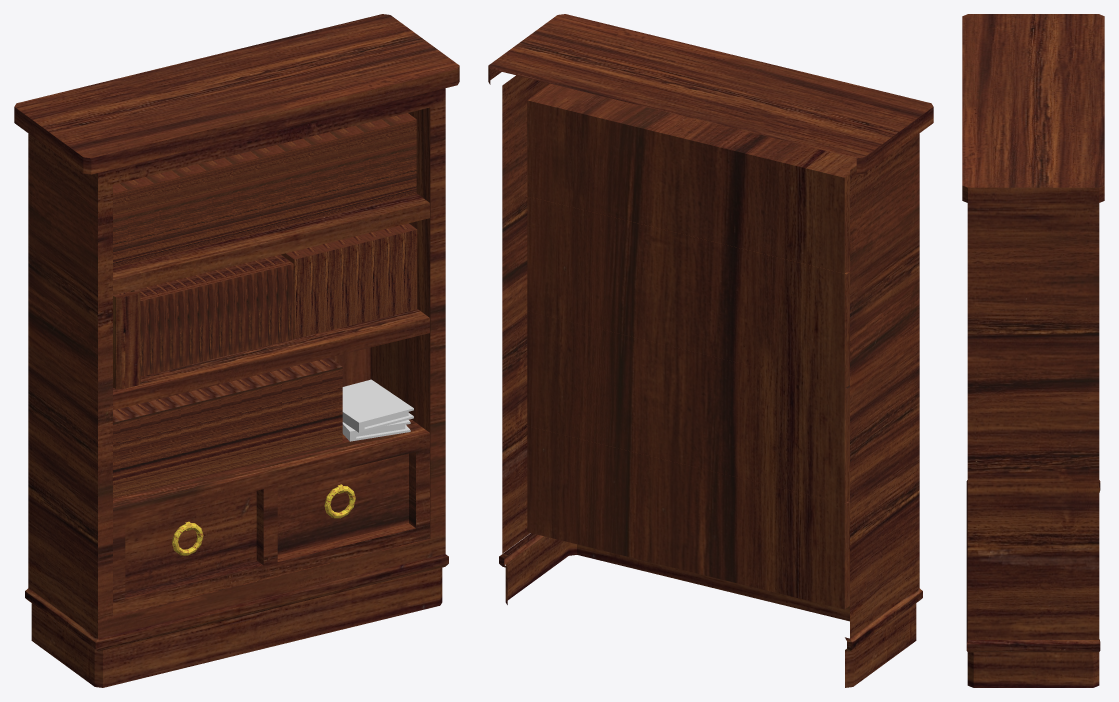
The model's file is Estanteria_1.fbx.
3 renders of one model, left to right at view 1: azimuth 30°, elevation 25°; view 2: azimuth 150°, elevation 25°; view 3: azimuth 270°, elevation 25°, orthographic. The views are drawn at different scales.
Visible parts, largest first — view 1: Plane.367; view 2: Plane.367; view 3: Plane.367.
Part boxes in pixels (x1=…): Plane.367: x1=14, y1=14, x2=459, y2=687; Plane.367: x1=488, y1=14, x2=933, y2=687; Plane.367: x1=962, y1=14, x2=1104, y2=687.
Bounding box in the file's own units: 168 × 229 × 58.21.
